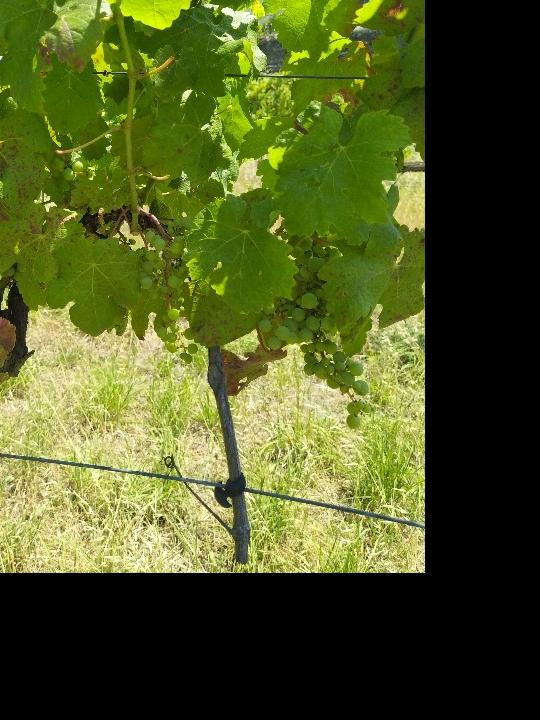grape: (257, 228, 375, 430)
